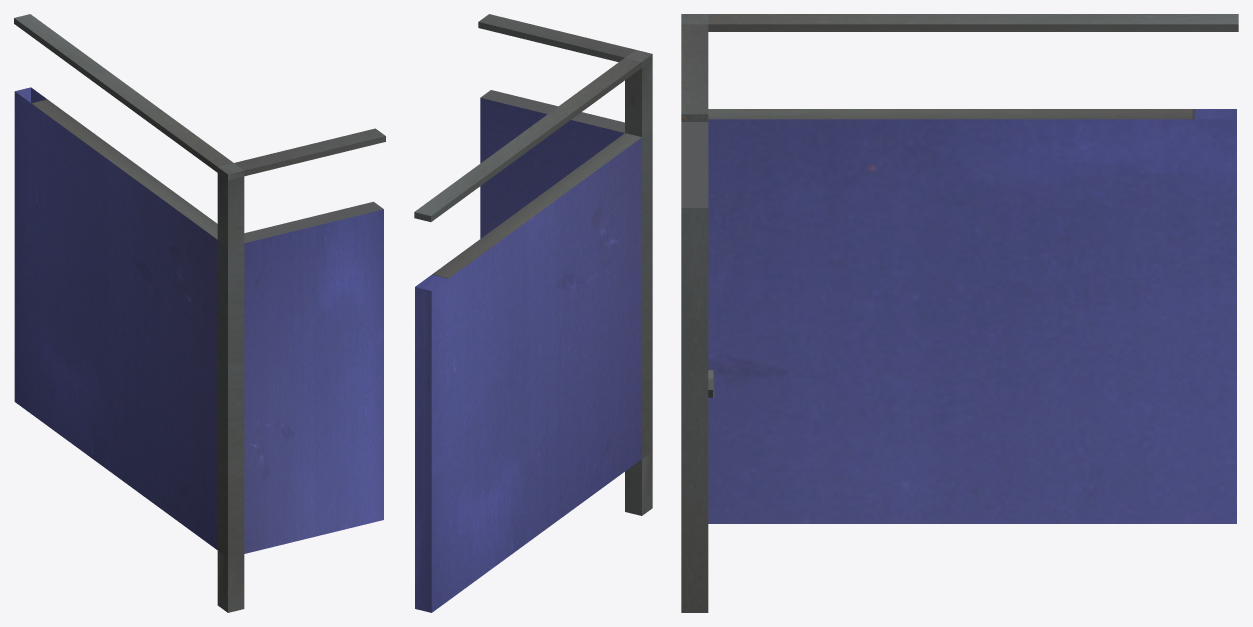
The model's file is bathroom_stalls.fbx.
3 renders of one model, left to right at view 1: azimuth 30°, elevation 25°; view 2: azimuth 150°, elevation 25°; view 3: azimuth 270°, elevation 25°, orthographic. The views are drawn at different scales.
Parts seen in each view (by area): view 1: Cube; view 2: Cube; view 3: Cube.
Part boxes in pixels (x1,y1,x2,y2): Cube: (14,14,385,612); Cube: (414,14,652,612); Cube: (681,14,1238,612).
Bounding box in the file's own units: 89.86 × 238 × 211.
